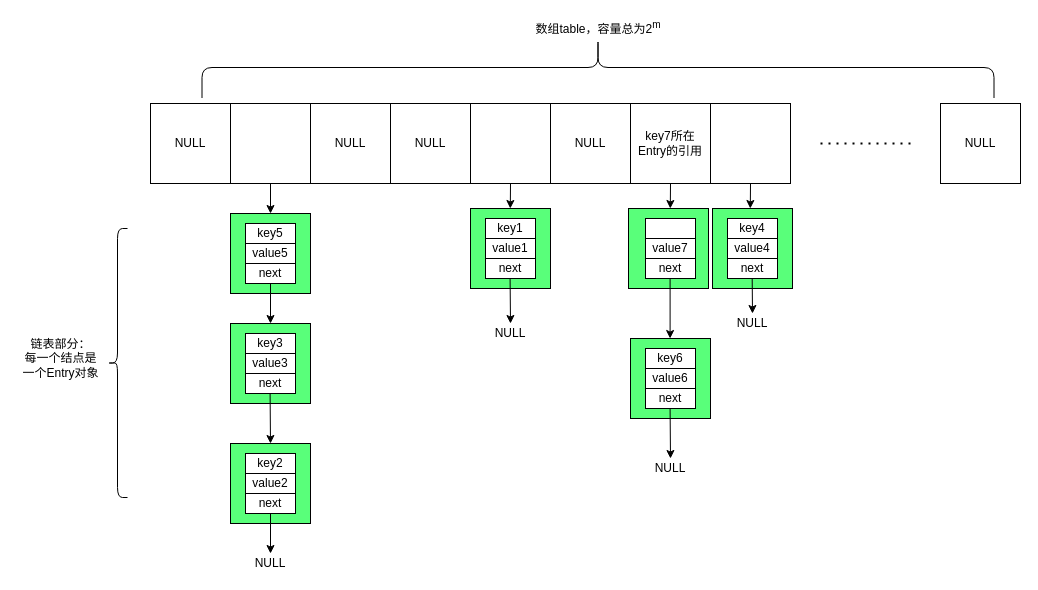
Some shapes in this 1038 by 590 pixel diagram are drawn without their labels. Here are the shapes that lost their labels. From the top down, the box of each, then its label:
(230, 102, 310, 184): key5所在 Entry的引用
(470, 102, 550, 184): key1所在 Entry的引用
(710, 102, 790, 184): key4所在 Entry的引用
(644, 218, 696, 238): key7
